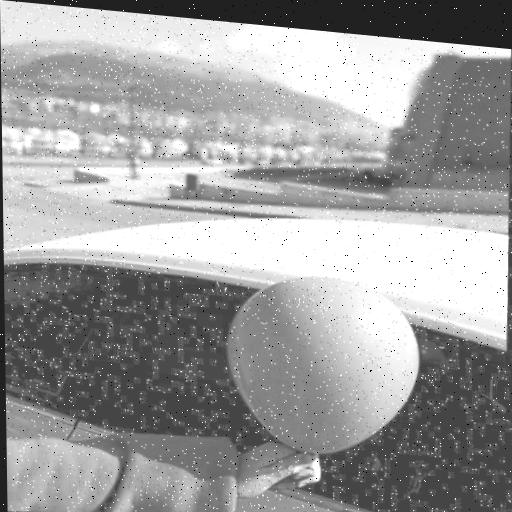balloon: (229, 262, 428, 478)
